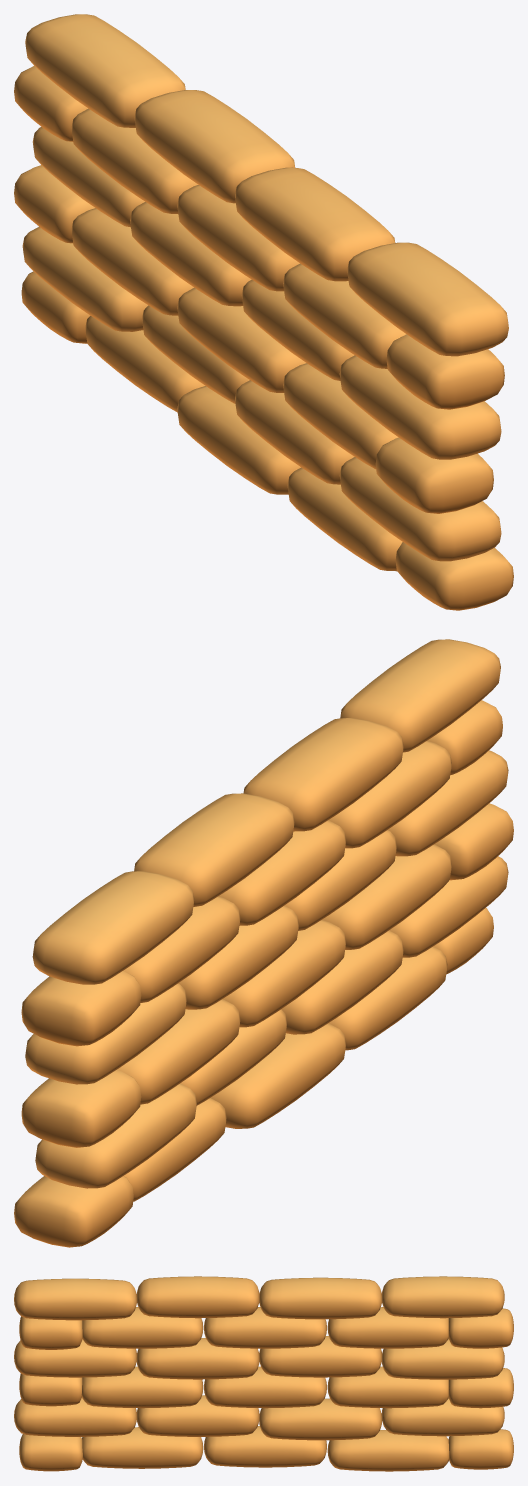
Rendered from SandWall01.fbx.
3 renders of one model, top to bottom at view 1: azimuth 30°, elevation 25°; view 2: azimuth 150°, elevation 25°; view 3: azimuth 270°, elevation 25°, orthographic. The views are drawn at different scales.
Visible parts, largest first — view 1: Sand Wall01; view 2: Sand Wall01; view 3: Sand Wall01.
Part boxes in pixels (x1,y1,x2,y2): Sand Wall01: [14, 14, 513, 610]; Sand Wall01: [14, 639, 513, 1247]; Sand Wall01: [14, 1276, 513, 1471].
Size of the model in its own units: 0.4942 by 3.87 by 1.56.
